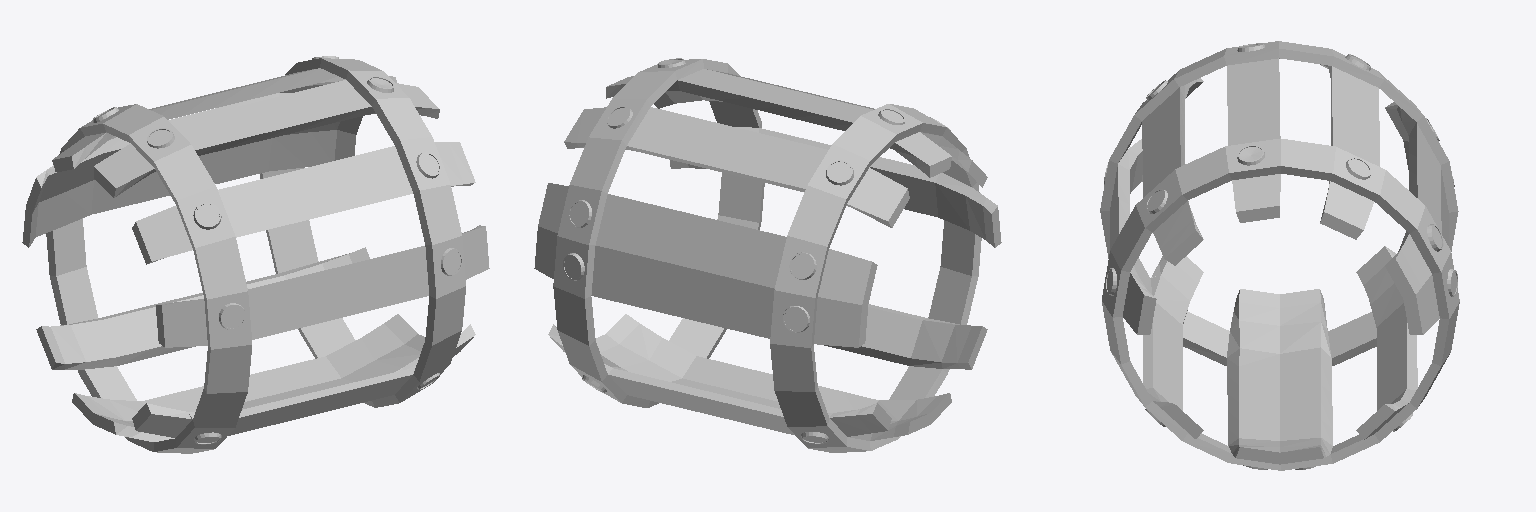
Rendered from Texture_Ready_Broken_Barrel.obj.
3 views of the same model, side by side, from view 1: azimuth 30°, elevation 25°; view 2: azimuth 150°, elevation 25°; view 3: azimuth 270°, elevation 25° (orthographic).
Parts seen in each view (by area): view 1: Barrel BrokenBarrel, BrokenBarrel Screw_04_Barrel1, BrokenBarrel Screw_06_Barrel; view 2: Barrel BrokenBarrel, BrokenBarrel Screw_01_Barrel, BrokenBarrel Screw_02_Barrel, BrokenBarrel Screw_03_Barrel; view 3: Barrel BrokenBarrel.
Boxes of the visible parts, <box> form: Barrel BrokenBarrel: <box>22,58,489,453</box>; BrokenBarrel Screw_04_Barrel1: <box>193,203,221,229</box>; BrokenBarrel Screw_06_Barrel: <box>219,303,245,329</box>; Barrel BrokenBarrel: <box>534,59,1001,452</box>; BrokenBarrel Screw_01_Barrel: <box>789,252,816,279</box>; BrokenBarrel Screw_02_Barrel: <box>783,306,809,332</box>; BrokenBarrel Screw_03_Barrel: <box>826,160,853,185</box>; Barrel BrokenBarrel: <box>1100,41,1459,470</box>.
Bounding box in the file's own units: 125 × 120 × 121.